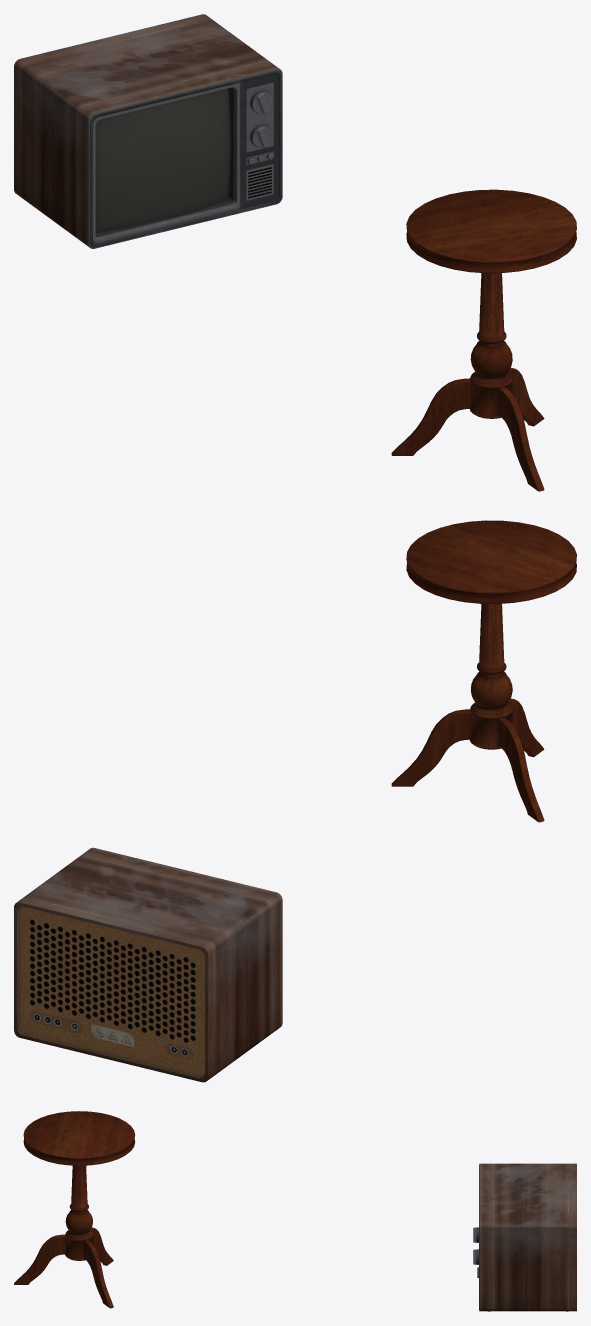
The picture shows the model from 3 angles, top to bottom: view 1: azimuth 30°, elevation 25°; view 2: azimuth 150°, elevation 25°; view 3: azimuth 270°, elevation 25°; orthographic projection. The views are drawn at different scales.
Visible parts, largest first — view 1: Slavic_Tv_Mesh, Coffee table; view 2: Slavic_Tv_Mesh, Coffee table; view 3: Slavic_Tv_Mesh, Coffee table.
Part boxes in pixels (left/top/right/bottom): Slavic_Tv_Mesh: left=14, top=14, right=282, bottom=248; Coffee table: left=391, top=189, right=576, bottom=491; Slavic_Tv_Mesh: left=14, top=847, right=282, bottom=1082; Coffee table: left=391, top=520, right=576, bottom=822; Slavic_Tv_Mesh: left=473, top=1163, right=576, bottom=1311; Coffee table: left=14, top=1111, right=135, bottom=1308.
Size of the model in its own units: 72 by 81.23 by 277.
